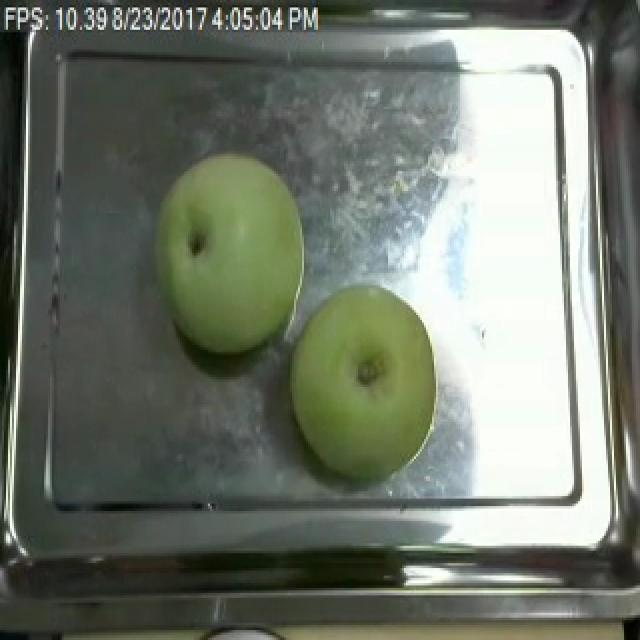50-_ripeness: (280, 280, 448, 490), (153, 154, 309, 352)
